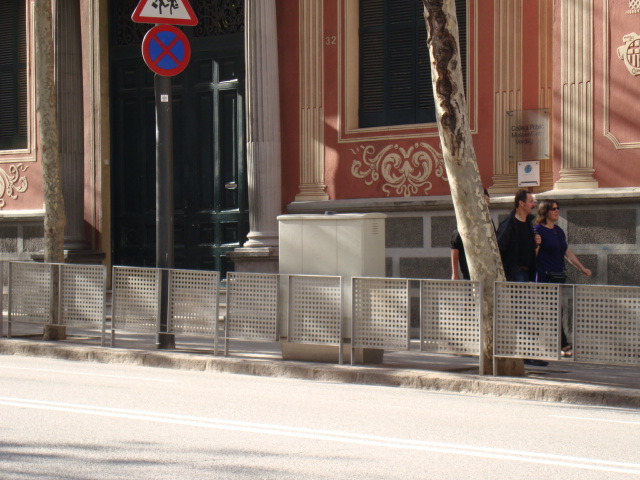deflection: (495, 186, 535, 239)
undeflect: (537, 202, 568, 239)
